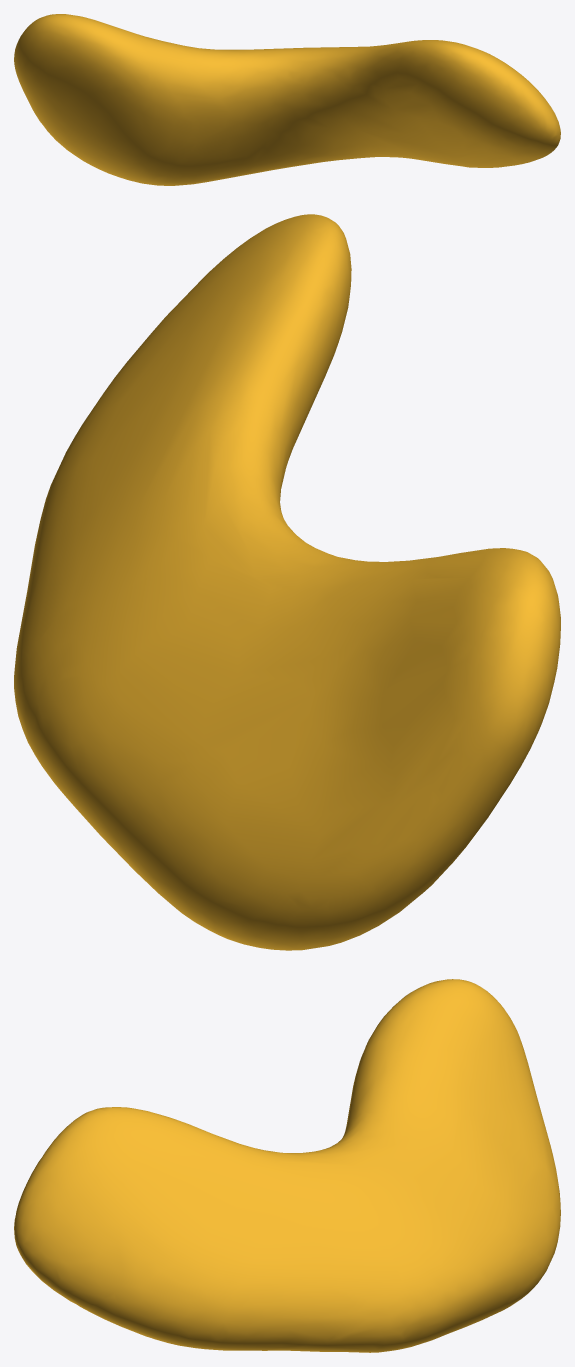
The model's file is nervoso-gracile-lobule-l.glb.
3 views of the same model, one above another, from view 1: azimuth 30°, elevation 25°; view 2: azimuth 150°, elevation 25°; view 3: azimuth 270°, elevation 25° (orthographic). The views are drawn at different scales.
Visible parts, largest first — view 1: Gracile lobule.l; view 2: Gracile lobule.l; view 3: Gracile lobule.l.
Part boxes in pixels (bbox=[...]): Gracile lobule.l: bbox=[14, 14, 560, 185]; Gracile lobule.l: bbox=[14, 214, 560, 950]; Gracile lobule.l: bbox=[14, 979, 560, 1352].
Bounding box in the file's own units: 0.0348 × 0.0194 × 0.0366.
